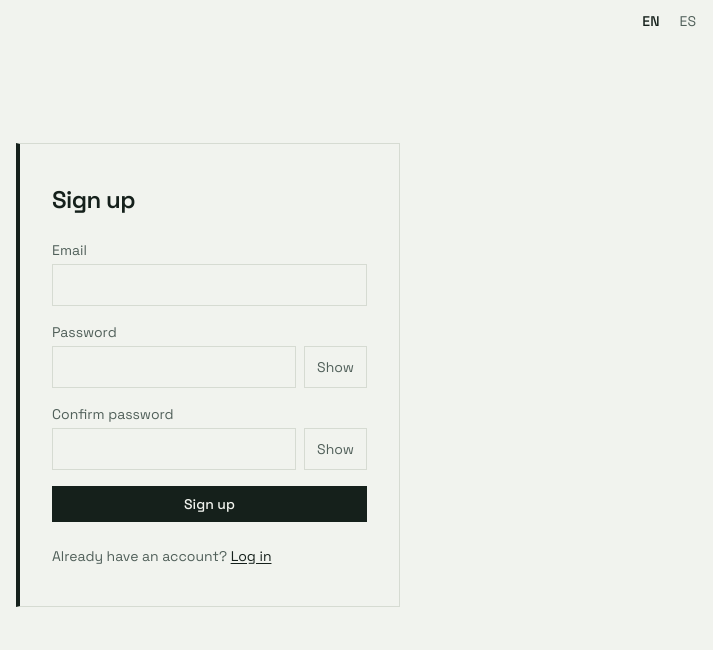
Test: SignUpPage › shows the server error message when sign-up fails
Type "someone@example.com" into the field labelled "Email". click: (210, 285)
box: [52,264,367,306]
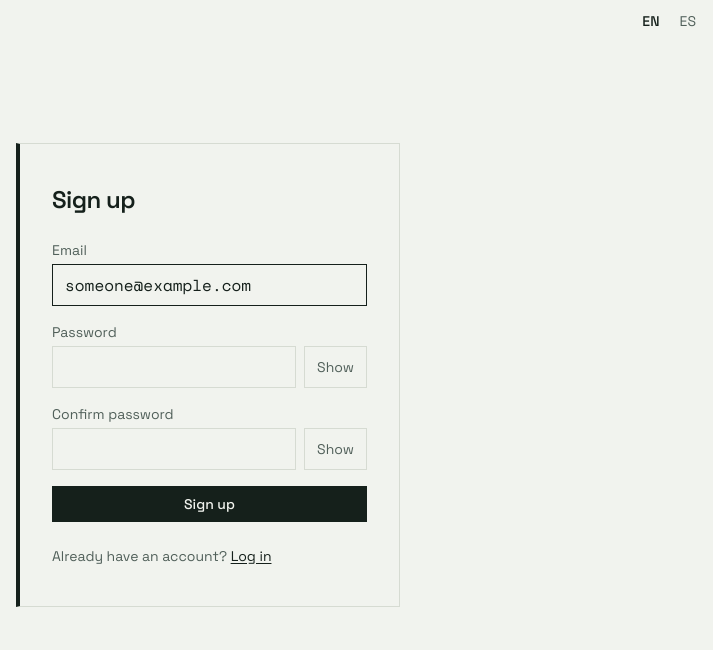
Type "short" into the password field labelled "Password". click: (174, 367)
box: [52,346,296,388]
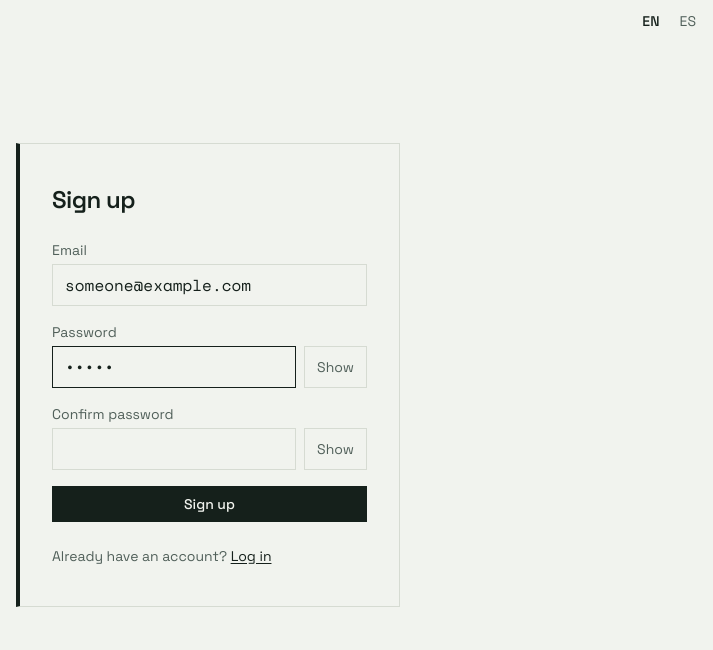
Type "short" into the password field labelled "Confirm password". click: (174, 449)
box: [52,428,296,470]
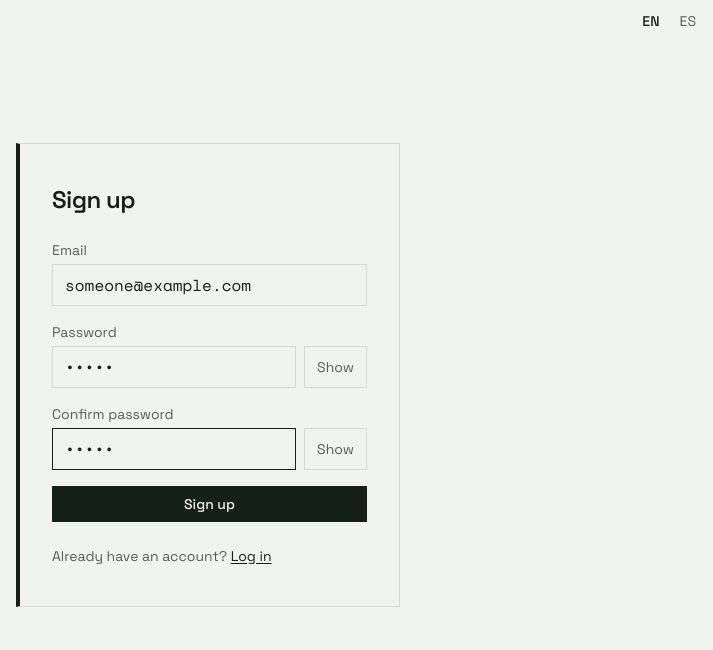
Click the button "Sign up". click: (210, 504)
box: [52,486,367,522]
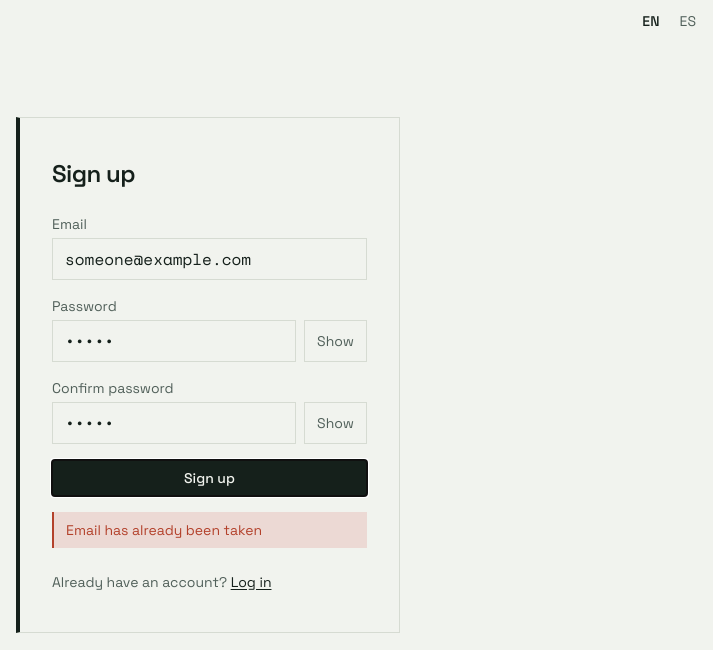
Result: the message reads "Email has already been taken" at [66,521,262,539]
